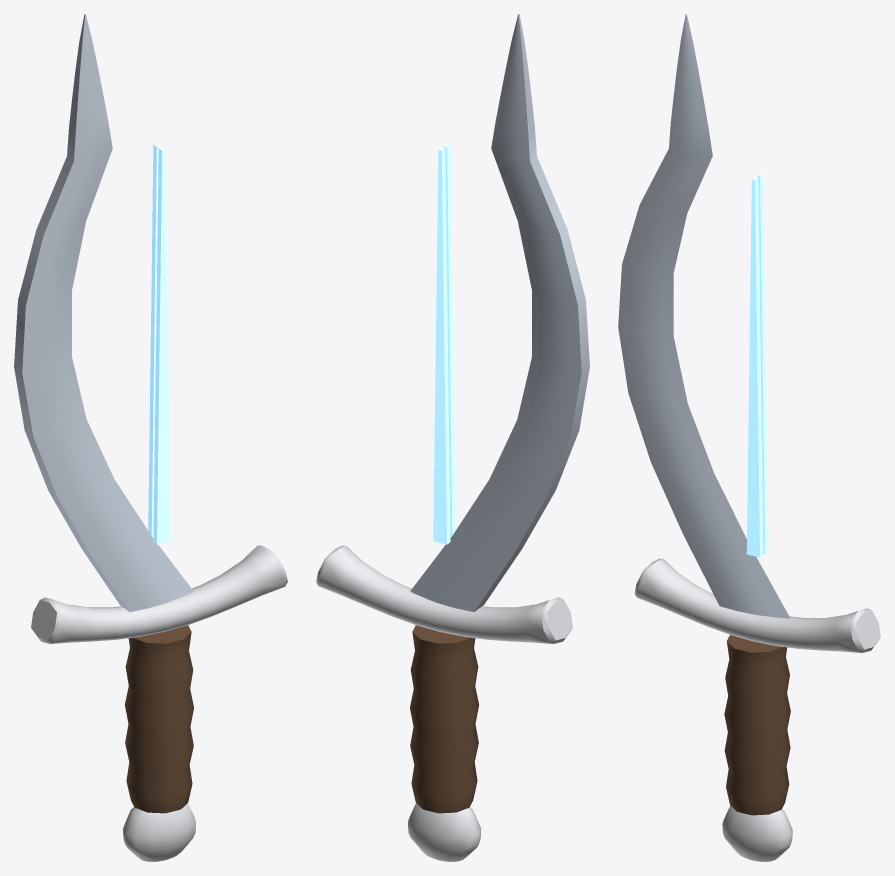
File: moonshard_dagger.glb
3 views of the same model, side by side, from view 1: azimuth 30°, elevation 25°; view 2: azimuth 150°, elevation 25°; view 3: azimuth 330°, elevation 25° (orthographic). The views are drawn at different scales.
Parts seen in each view (by area): view 1: moonshard_dagger; view 2: moonshard_dagger; view 3: moonshard_dagger.
Part boxes in pixels (x1=…): moonshard_dagger: x1=14, y1=14, x2=287, y2=861; moonshard_dagger: x1=316, y1=14, x2=589, y2=861; moonshard_dagger: x1=618, y1=14, x2=880, y2=861.
Bounding box in the file's own units: 0.1364 × 0.4282 × 0.0299.
